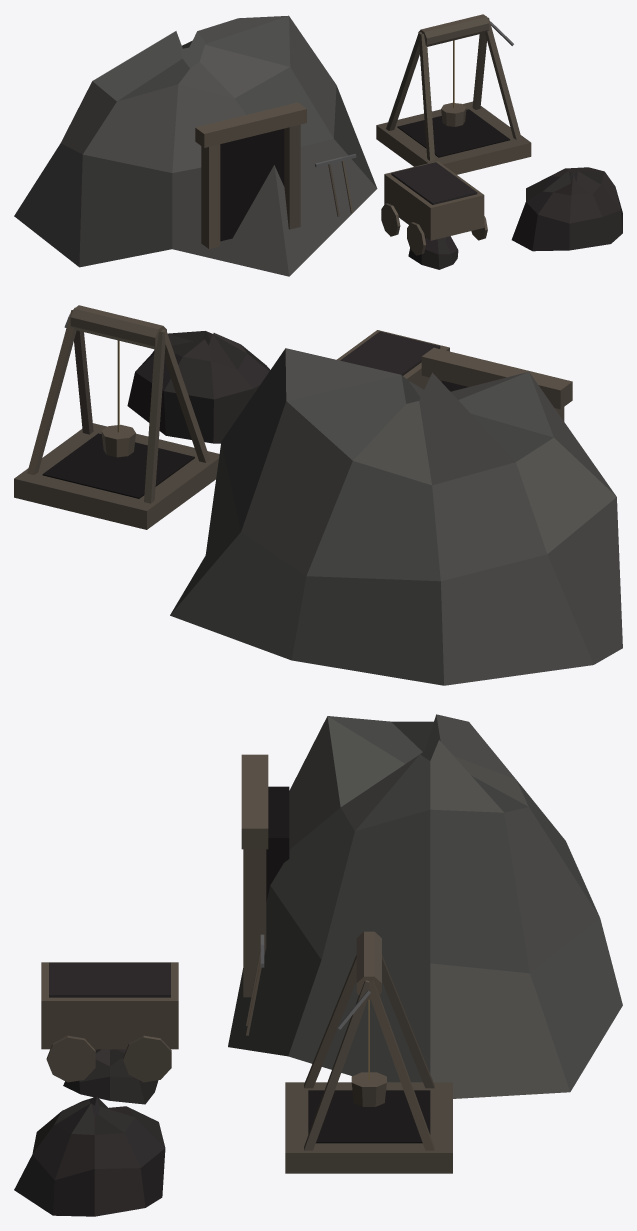
The model's file is walk_ashen_mine.glb.
The picture shows the model from 3 angles, top to bottom: view 1: azimuth 30°, elevation 25°; view 2: azimuth 150°, elevation 25°; view 3: azimuth 270°, elevation 25°; orthographic projection. The views are drawn at different scales.
Parts seen in each view (by area): view 1: walk_ashen_mine; view 2: walk_ashen_mine; view 3: walk_ashen_mine.
Boxes of the visible parts, x1,y1,x2,y2 form: walk_ashen_mine: (14, 14, 622, 276); walk_ashen_mine: (14, 305, 622, 685); walk_ashen_mine: (14, 714, 622, 1216).
Size of what is drawn, in the model's own units: 10.55 by 4.37 by 7.99.
2 materials, 2 textured.
